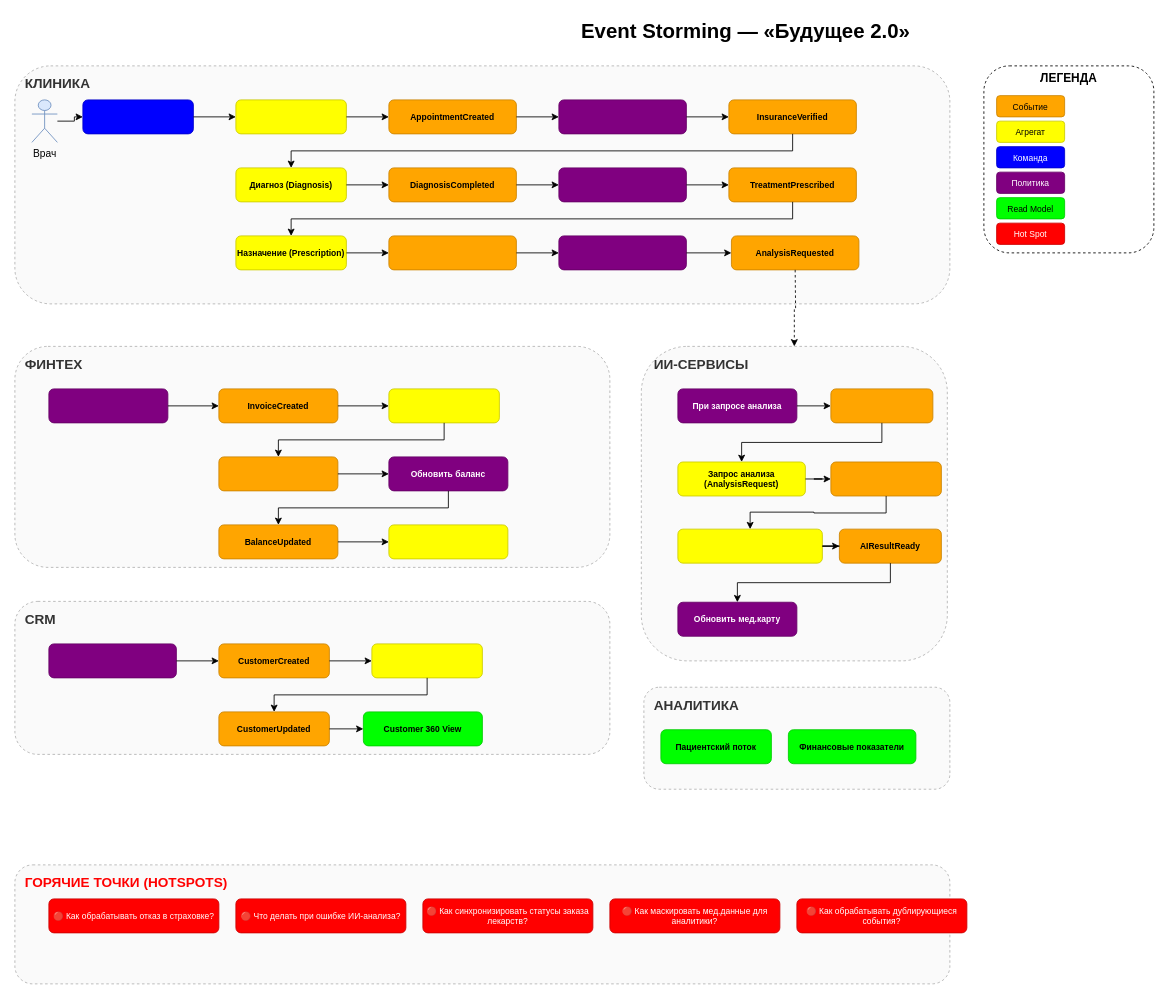
Image size: 1169x999. Some labels were removed from this diagram. The shapes that lost their labels are listed below. From the top down, each one's centre as x and y in pixels, then its label:
(137,116): Записать на приём
(290,116): Приём (Appointment)
(622,116): Проверить страховку
(622,184): Назначить лечение
(452,252): PrescriptionCreated
(622,252): Отправить на ИИ-анализ
(108,405): При создании приёма
(443,405): Счёт (Invoice)
(881,405): AnalysisStarted
(278,473): PaymentProcessed
(885,478): AnalysisCompleted
(448,541): Счёт клиента (Account)
(749,545): Результат анализа (AnalysisResult)
(112,660): При регистрации пациента
(426,660): Клиент (Customer)
